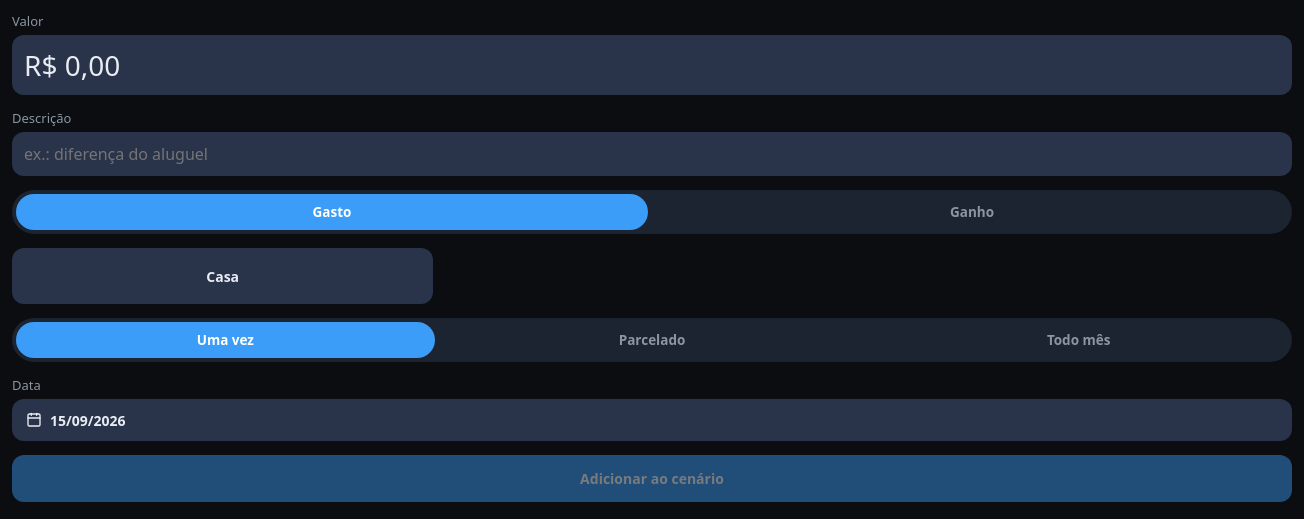
Test: Adicionar fica desativado sem valor ou sem categoria
Expected: the button "Adicionar ao cenário" is disabled, [12, 455, 1292, 502]
Type "300,00" into the field labelled "Valor".
click(652, 65); type("300,00")  # box [12, 35, 1292, 95]
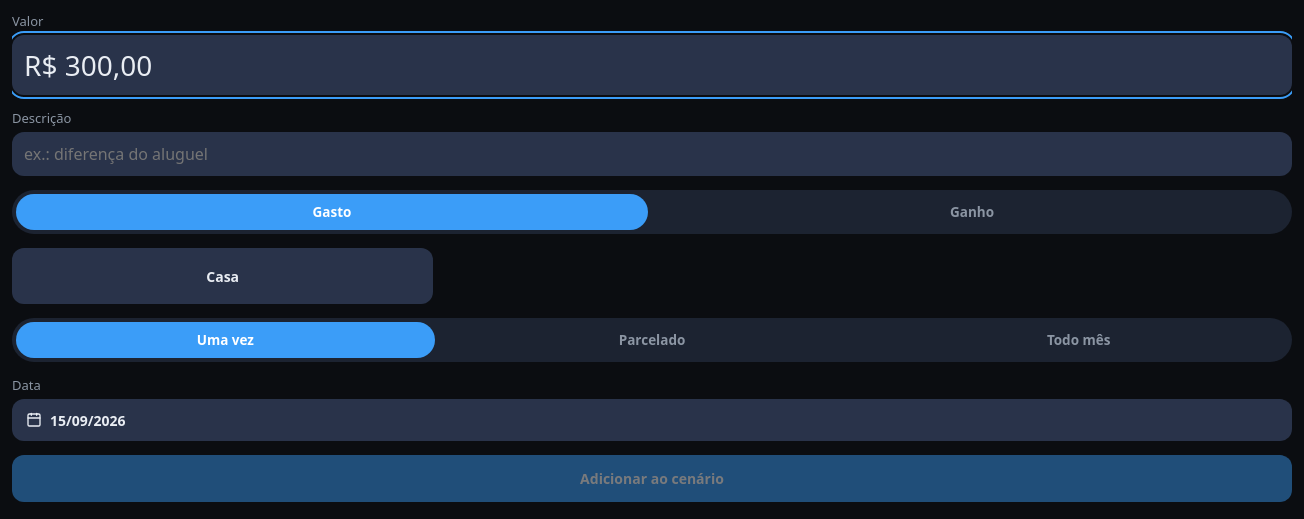
Expected: the button "Adicionar ao cenário" is disabled, [12, 455, 1292, 502]
Click the button "Casa".
click(223, 276)  # box [12, 248, 433, 304]
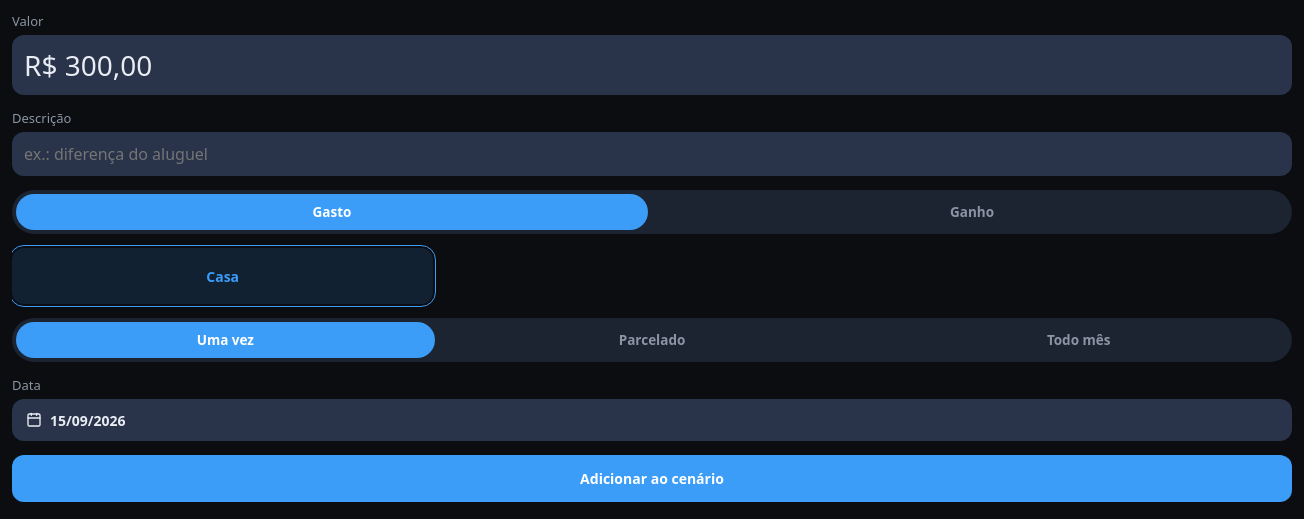
Result: the button "Adicionar ao cenário" is enabled at [12, 455, 1292, 502]
